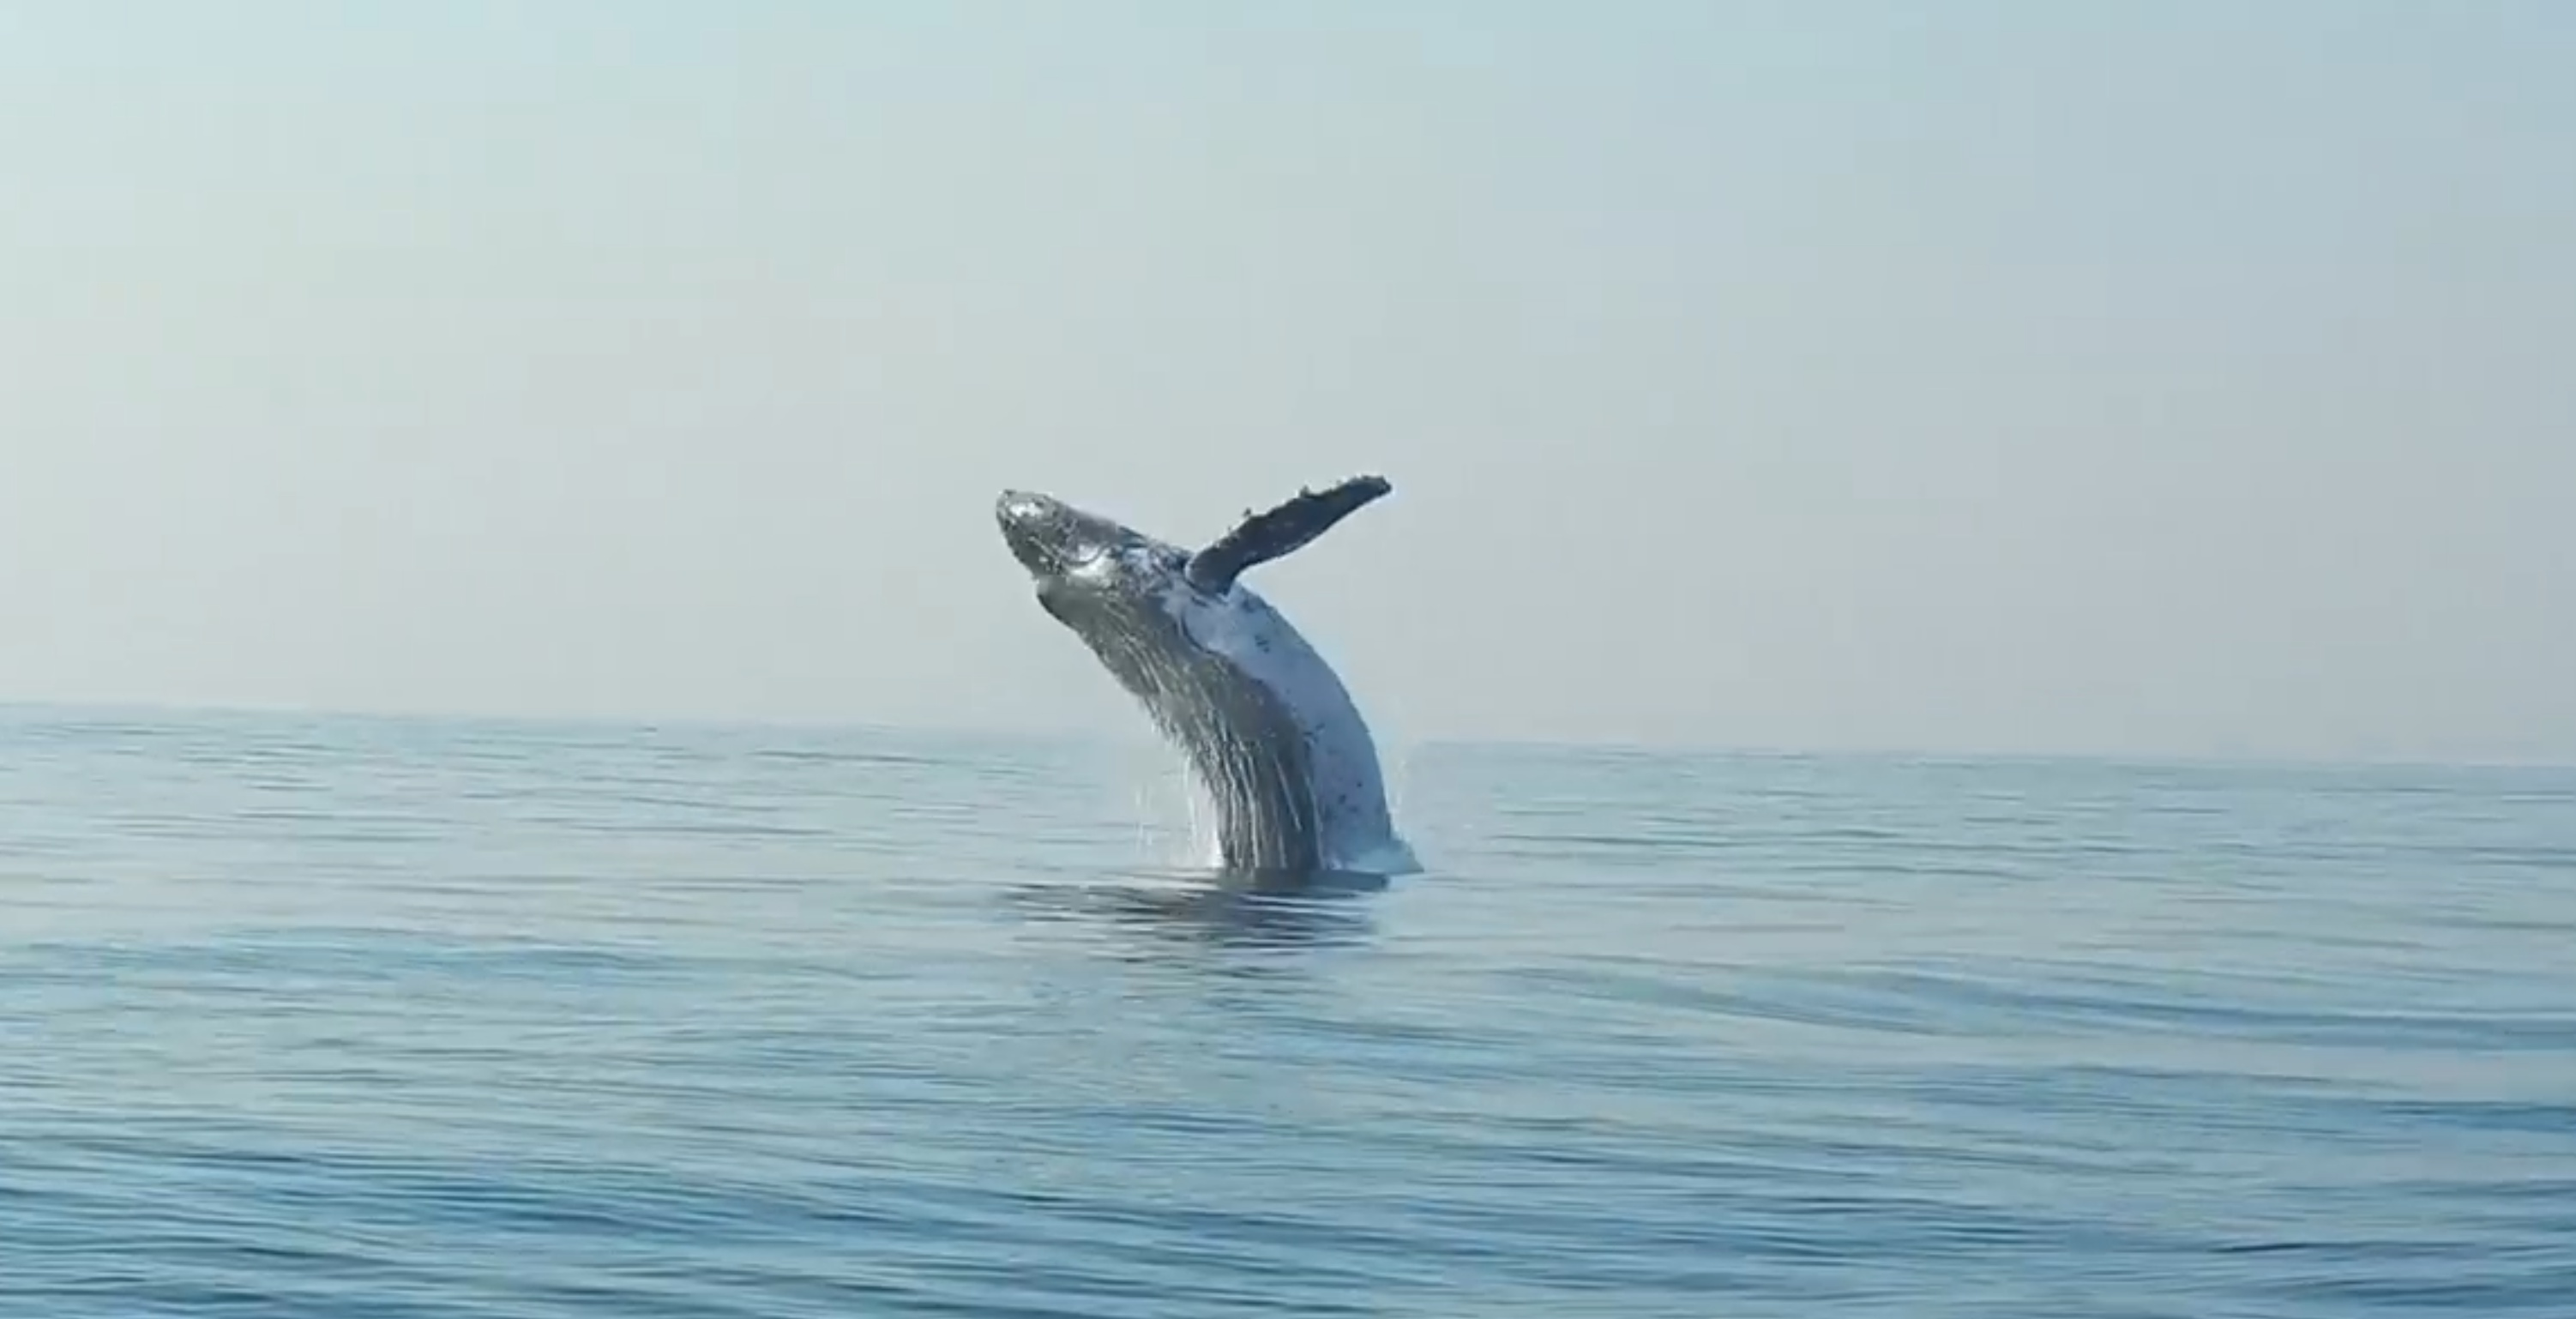humpback: (995, 483, 1399, 882)
